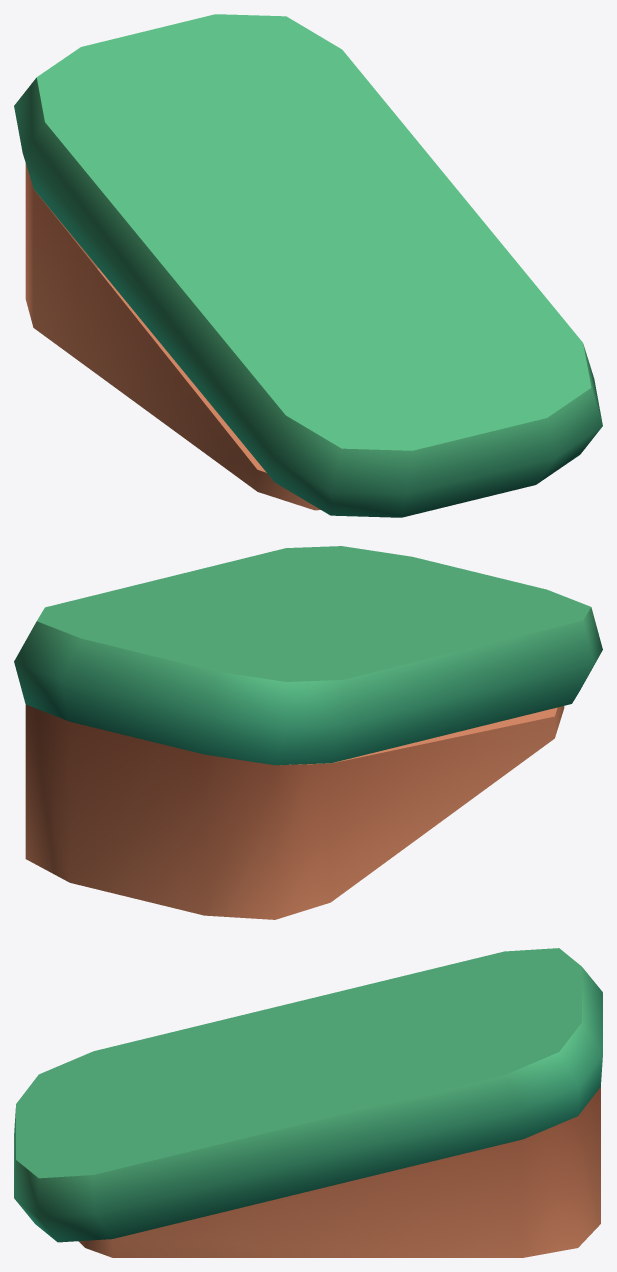
The model's file is block-grass-large-slope-narrow.glb.
3 renders of one model, top to bottom at view 1: azimuth 30°, elevation 25°; view 2: azimuth 150°, elevation 25°; view 3: azimuth 270°, elevation 25°, orthographic. The views are drawn at different scales.
Visible parts, largest first — view 1: block-grass-large-slope-narrow; view 2: block-grass-large-slope-narrow; view 3: block-grass-large-slope-narrow.
Part boxes in pixels (bbox=[...]): block-grass-large-slope-narrow: bbox=[14, 14, 602, 517]; block-grass-large-slope-narrow: bbox=[14, 546, 602, 919]; block-grass-large-slope-narrow: bbox=[14, 948, 602, 1257].
Bounding box in the file's own units: 1.08 × 0.7591 × 2.01.
1 material, 1 textured.
